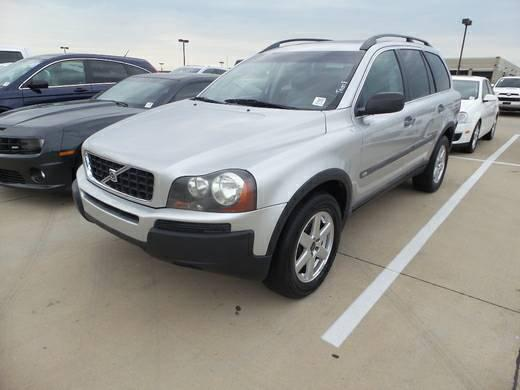volvo: (72, 22, 462, 301)
